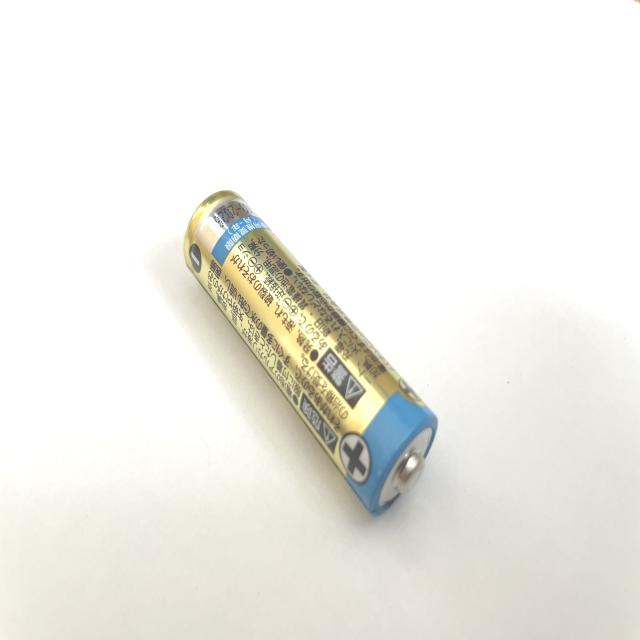AA: (183, 191, 441, 524)
